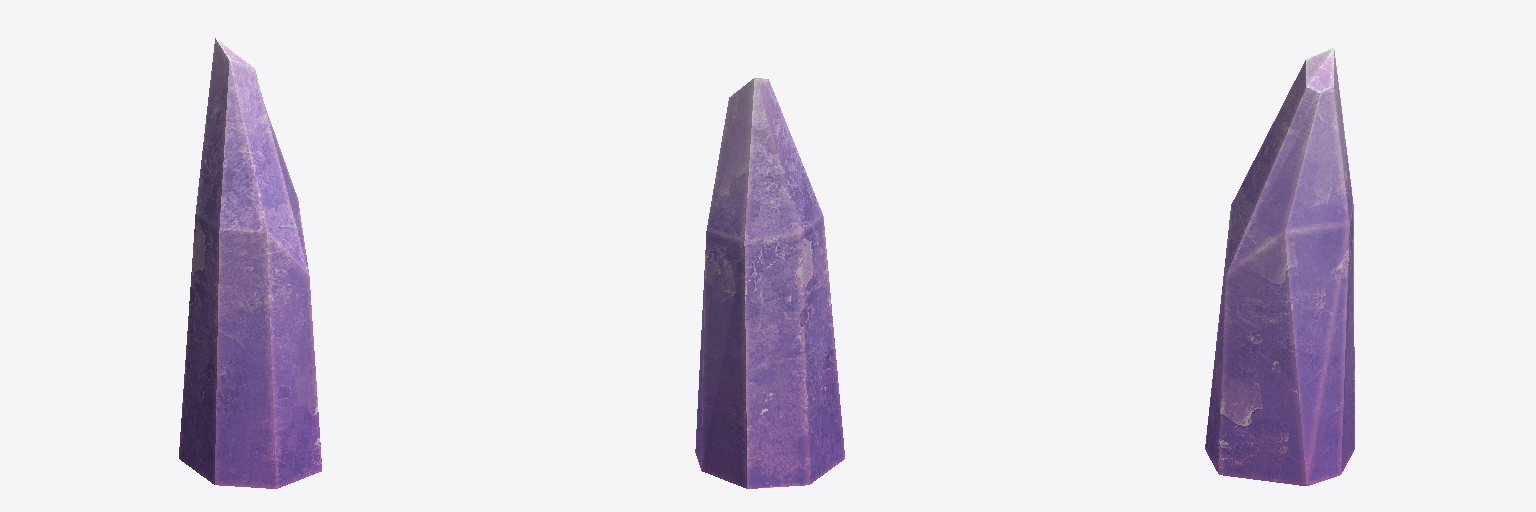
3 views of the same model, side by side, from view 1: azimuth 30°, elevation 25°; view 2: azimuth 150°, elevation 25°; view 3: azimuth 270°, elevation 25° (orthographic).
Visible parts, largest first — view 1: crystal_small01_var3; view 2: crystal_small01_var3; view 3: crystal_small01_var3.
Boxes of the visible parts, x1,y1,x2,y2 form: crystal_small01_var3: [179, 38, 321, 488]; crystal_small01_var3: [695, 78, 844, 488]; crystal_small01_var3: [1205, 48, 1354, 485].
Bounding box in the file's own units: 20.27 × 65.81 × 22.22.
Materials: 1 (1 with a texture image).